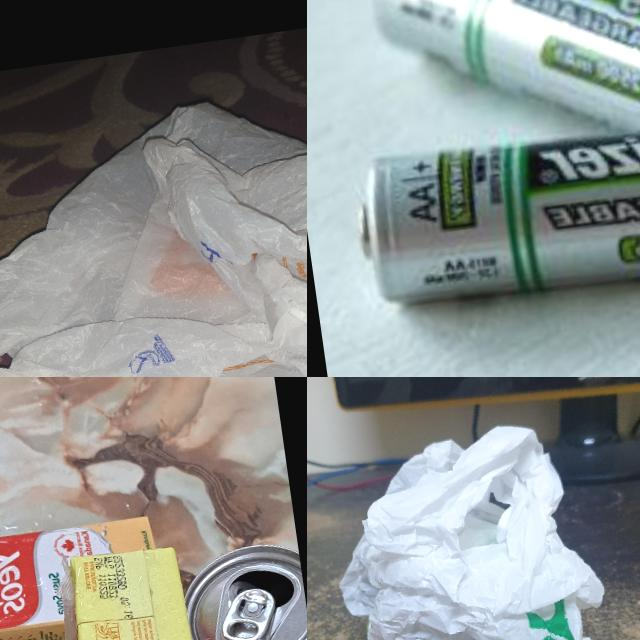aba de lata: (216, 584, 279, 640)
bateria: (347, 93, 640, 333), (353, 0, 640, 177)
caixinha: (0, 512, 168, 640), (42, 544, 216, 640)
lata: (180, 538, 307, 640)
sacola plástica: (0, 68, 307, 377), (319, 412, 628, 640)
